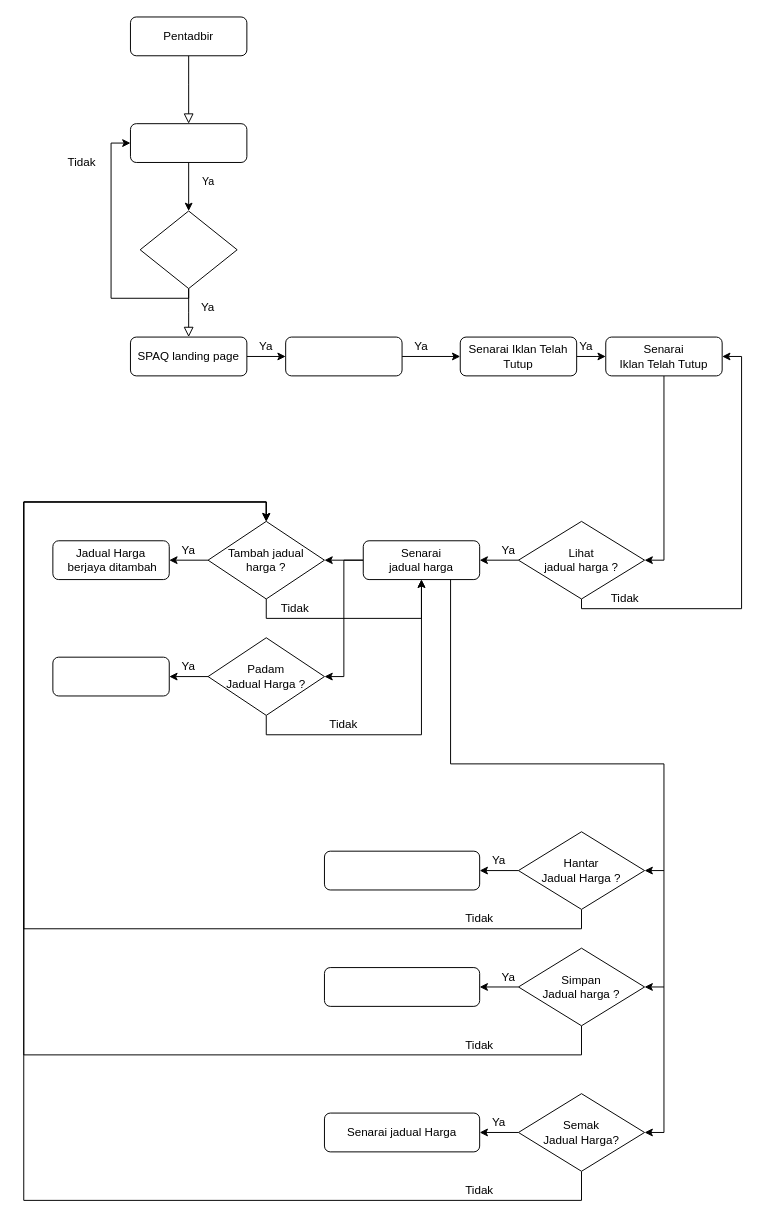
Some shapes in this 766 by 1225 pixel diagram are drawn without their labels. Here are the shapes that lost their labels. From the top down, the box of each, then its label:
(129, 123, 247, 162): Halaman Log Masuk
(139, 210, 237, 289): Log masuk?
(285, 336, 402, 376): TUNAS
(52, 656, 169, 696): Jadual Harga berjaya dipadam
(323, 850, 480, 890): Iklan berstatus SELESAI
(323, 967, 480, 1006): Iklan berstatus DRAF
